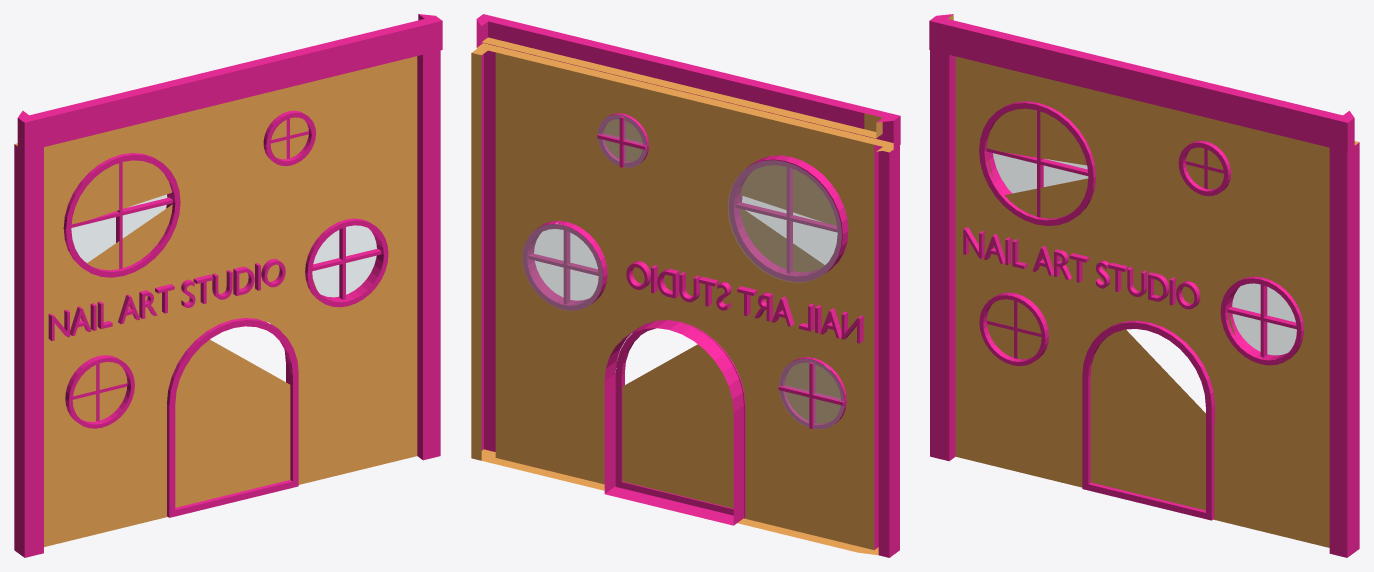
3 renders of one model, left to right at view 1: azimuth 30°, elevation 25°; view 2: azimuth 150°, elevation 25°; view 3: azimuth 330°, elevation 25°, orthographic.
Parts seen in each view (by area): view 1: Cylinder.015_m_turuncu, Cylinder.015_m_koyupembe, Cylinder.015_m_cam; view 2: Cylinder.015_m_turuncu, Cylinder.015_m_koyupembe, Cylinder.015_m_cam; view 3: Cylinder.015_m_turuncu, Cylinder.015_m_koyupembe, Cylinder.015_m_cam.
Boxes of the visible parts, <box> form: Cylinder.015_m_turuncu: <box>15,56,417,546</box>; Cylinder.015_m_koyupembe: <box>14,14,442,557</box>; Cylinder.015_m_cam: <box>71,194,376,297</box>; Cylinder.015_m_turuncu: <box>471,37,893,555</box>; Cylinder.015_m_koyupembe: <box>476,14,900,557</box>; Cylinder.015_m_cam: <box>522,114,844,429</box>; Cylinder.015_m_turuncu: <box>947,14,1359,547</box>; Cylinder.015_m_koyupembe: <box>929,14,1359,557</box>; Cylinder.015_m_cam: <box>993,153,1296,355</box>.
Size of the model in its own units: 138 by 137 by 10.08.
